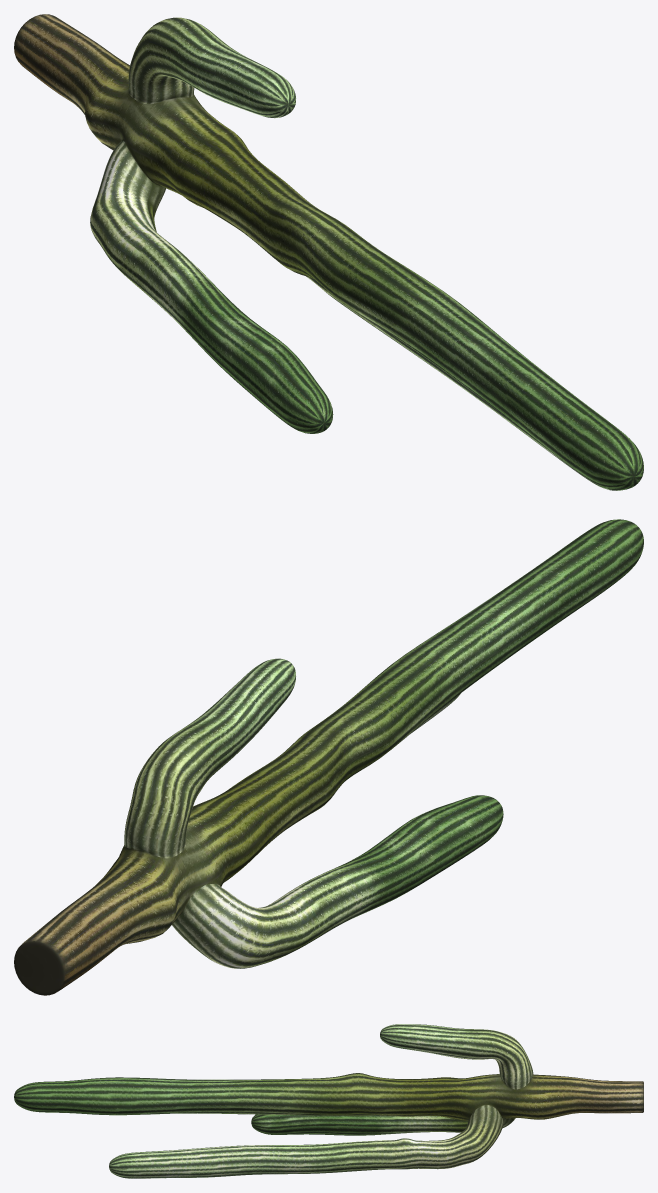
Rendered from Cactus.gltf.
3 views of the same model, one above another, from view 1: azimuth 30°, elevation 25°; view 2: azimuth 150°, elevation 25°; view 3: azimuth 270°, elevation 25° (orthographic). The views are drawn at different scales.
Visible parts, largest first — view 1: 10436_Cactus_v1_max2010_it2; view 2: 10436_Cactus_v1_max2010_it2; view 3: 10436_Cactus_v1_max2010_it2.
Boxes of the visible parts, x1,y1,x2,y2 form: 10436_Cactus_v1_max2010_it2: (14, 14, 643, 490); 10436_Cactus_v1_max2010_it2: (14, 519, 643, 995); 10436_Cactus_v1_max2010_it2: (14, 1024, 643, 1178).
Size of the model in its own units: 51.26 by 57.06 by 250.
Materials: 1 (1 with a texture image).
